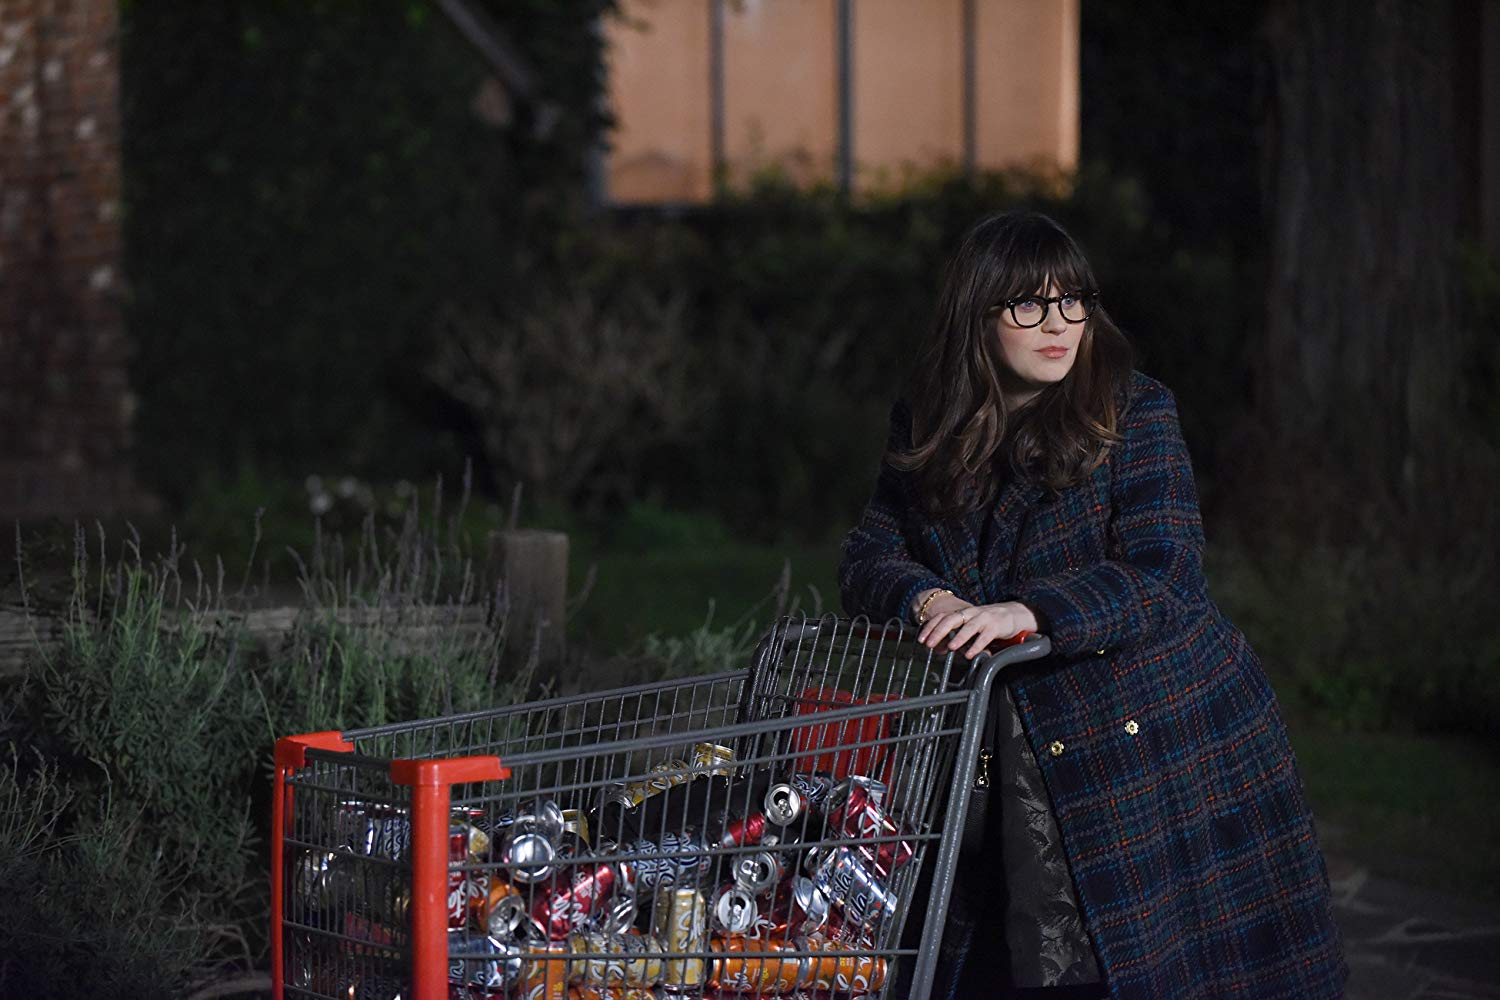person: (838, 208, 1343, 998)
